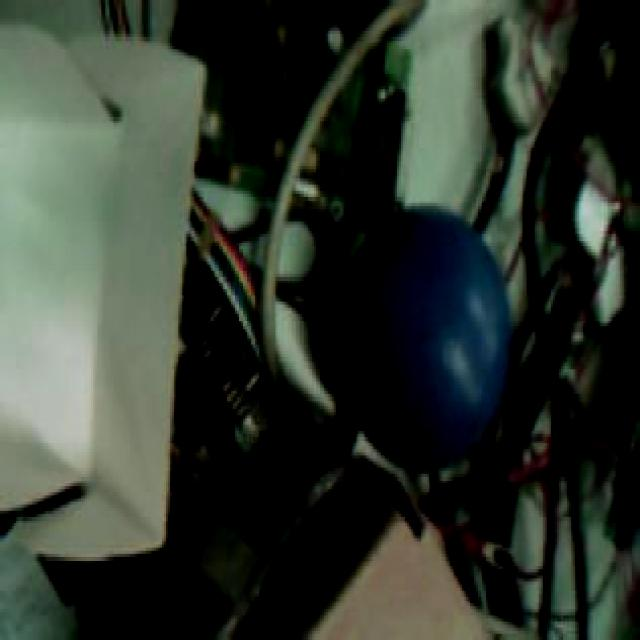BallPurple: (349, 204, 511, 468)
